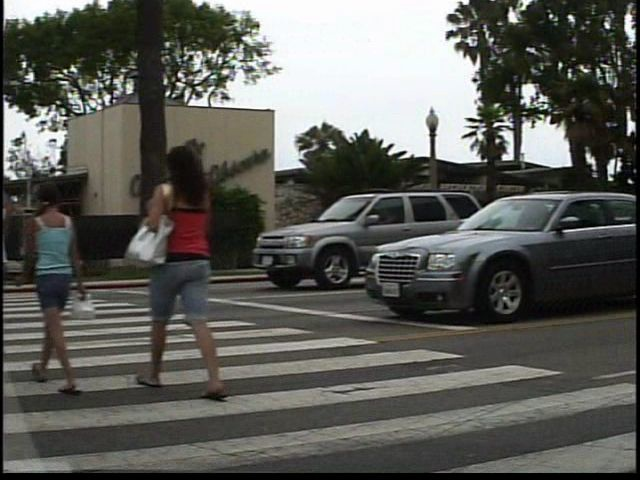person: (140, 140, 246, 408), (32, 177, 106, 402)
